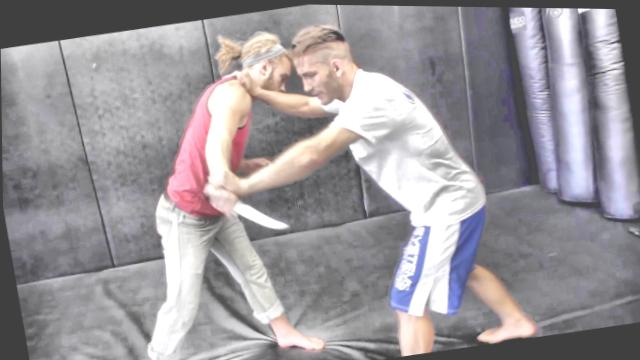knife: (200, 176, 296, 246)
